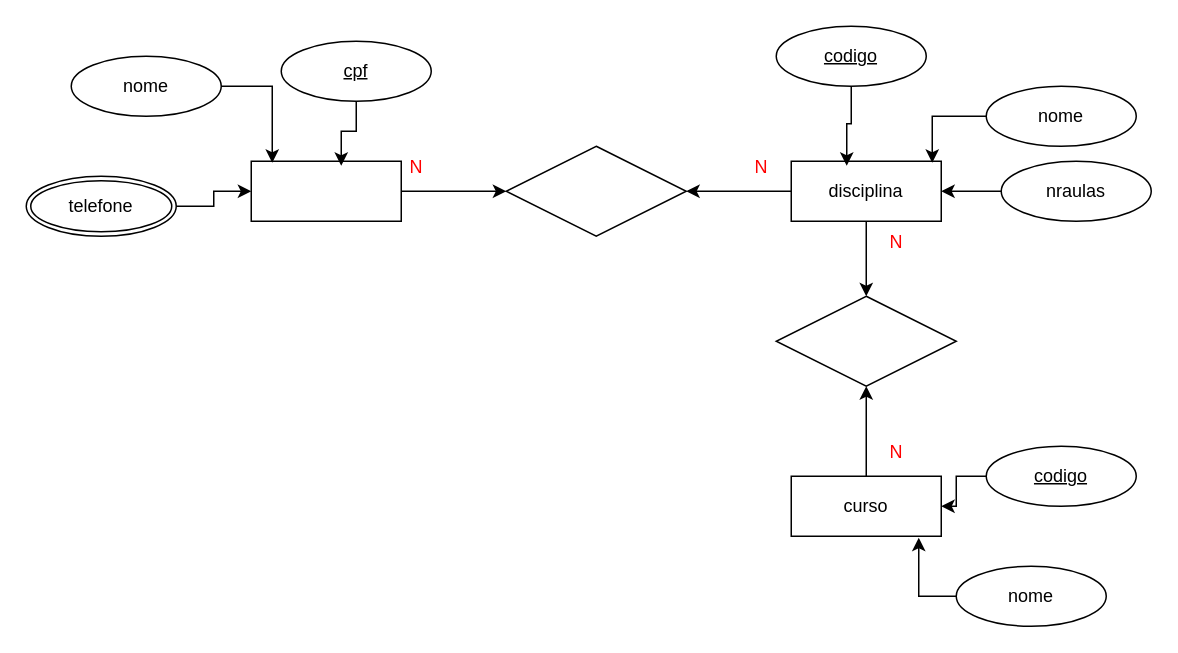
The diagram is 1178 pixels wide and 653 high, and some of its shapes have lost their labels. Each missing label, with the centre of its shape:
leciona: (595,190)
pertence: (865,340)
professor: (325,190)
